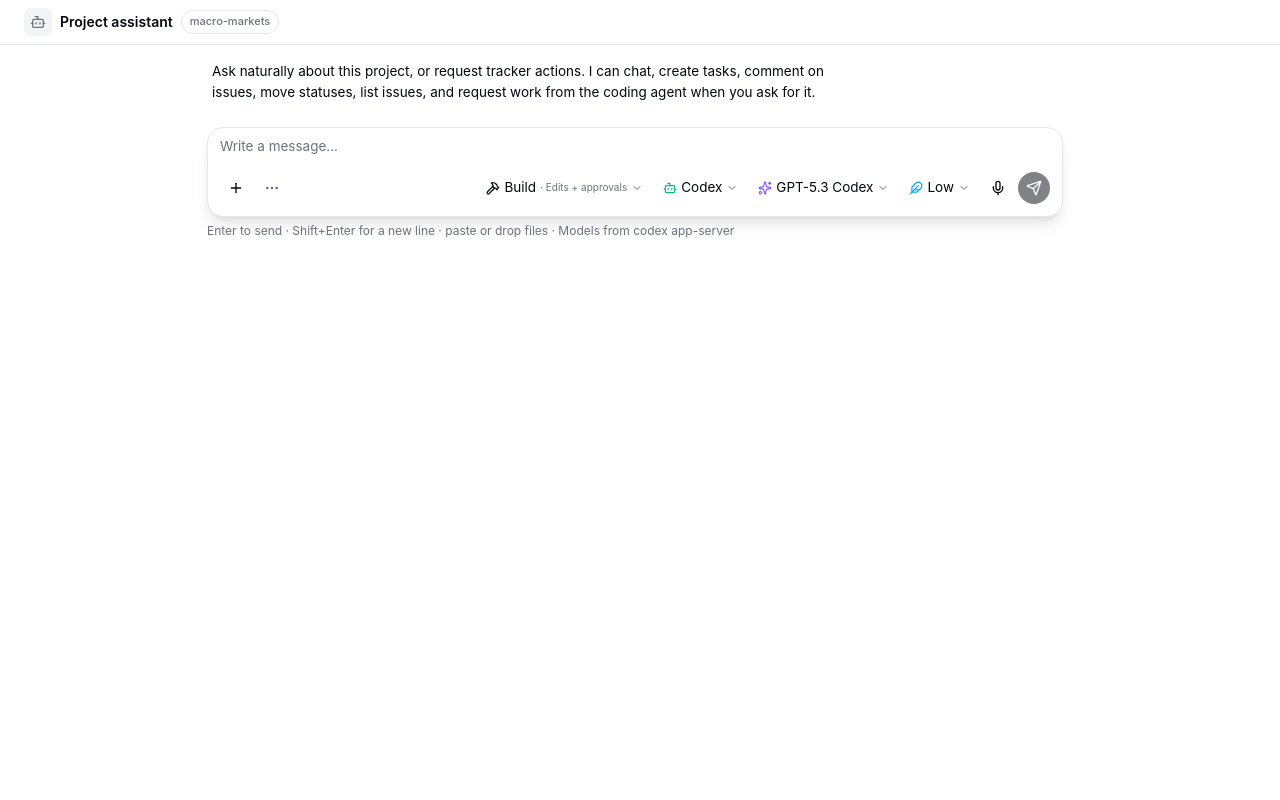
ProjectAssistantPanel › opens the project knowledge base from the composer button and shortcut
Click the button named "More composer tools": [272, 188] box [256, 172, 288, 204]
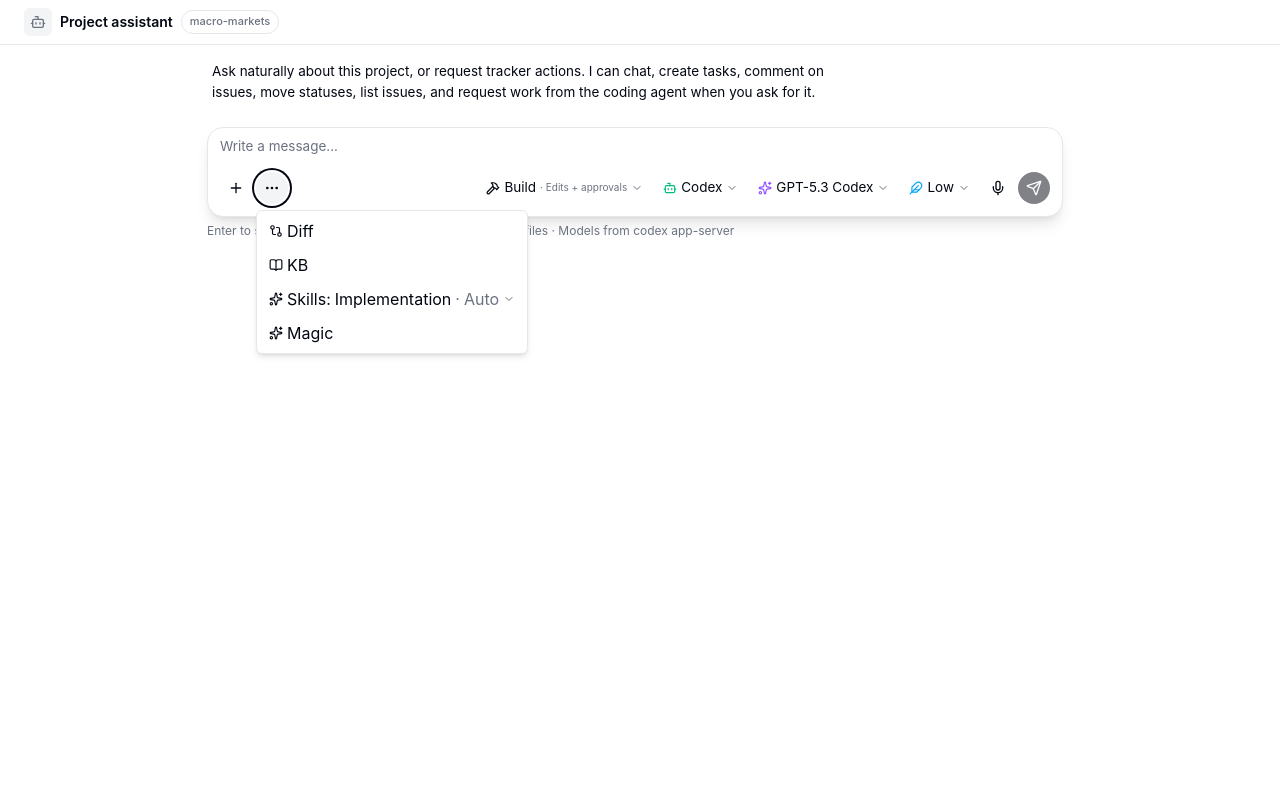
Now the button with aria-label "knowledge base" is enabled
Click the button with aria-label "knowledge base": [276, 265] box [261, 249, 523, 281]
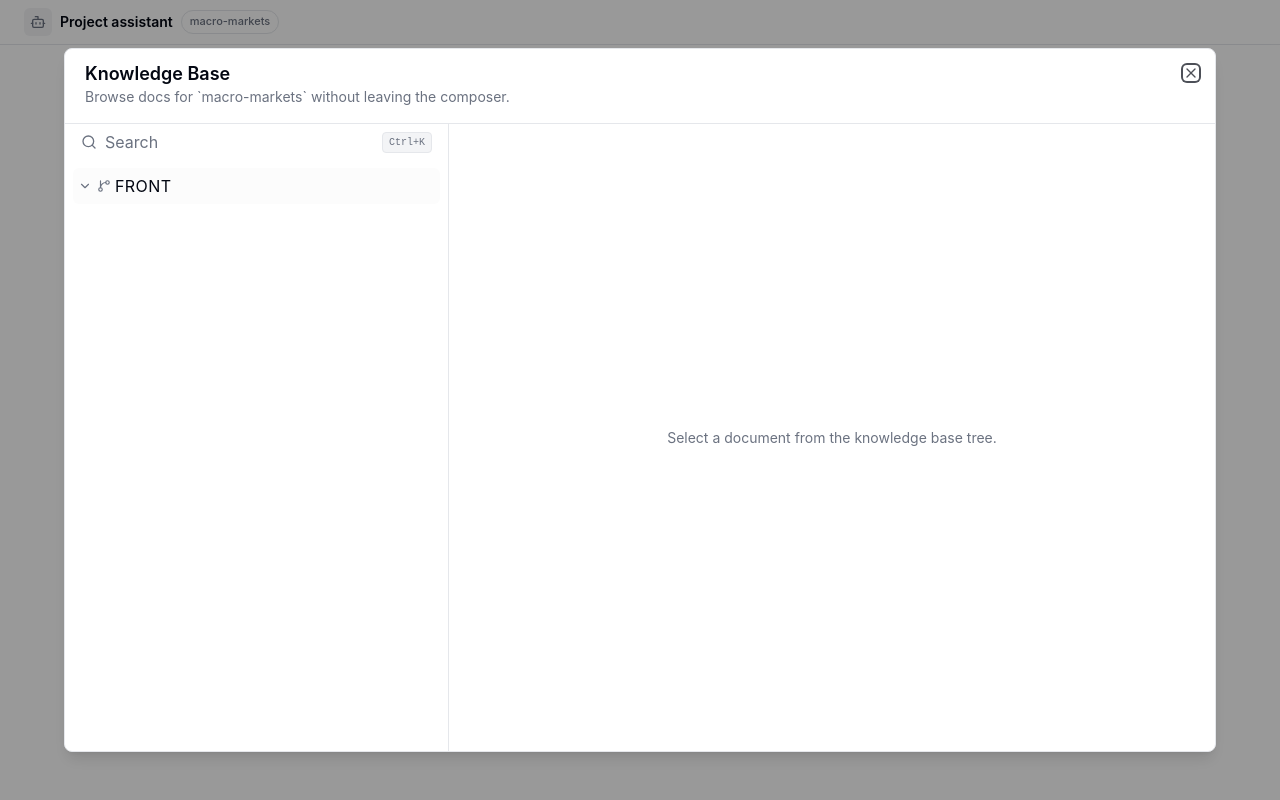
Now the dialog "Knowledge Base" is shown
Press Escape
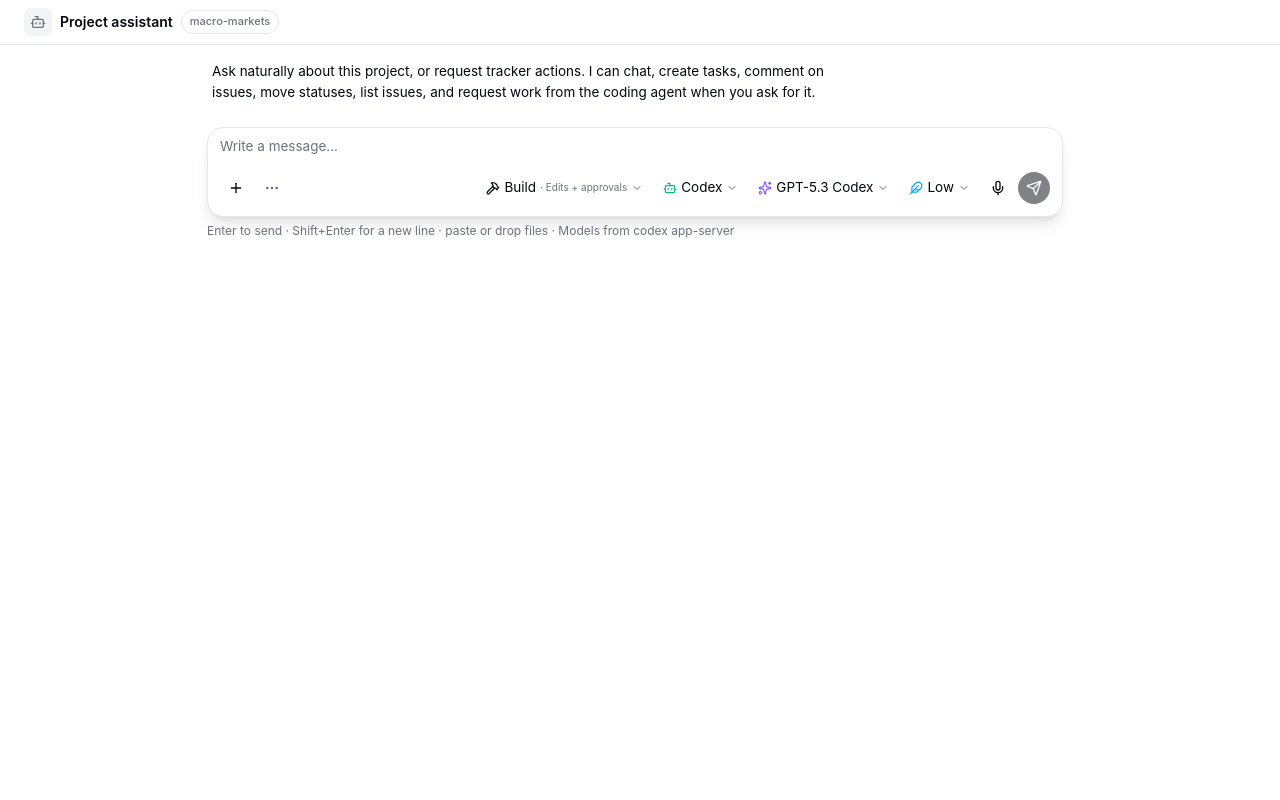
Now the heading "Knowledge Base" is gone
Type keys "{Control>}{Shift>}k{/Shift}{/Control}"
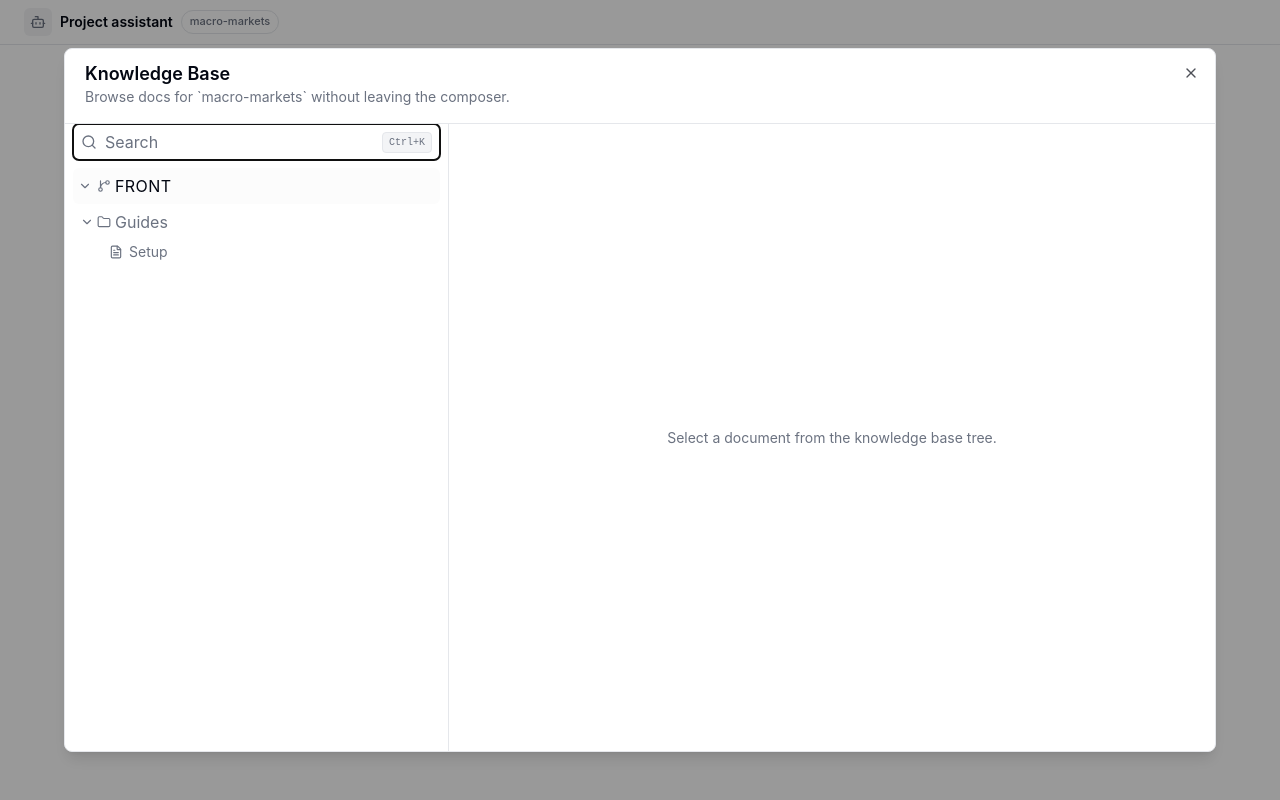
Now the dialog "Knowledge Base" is shown
